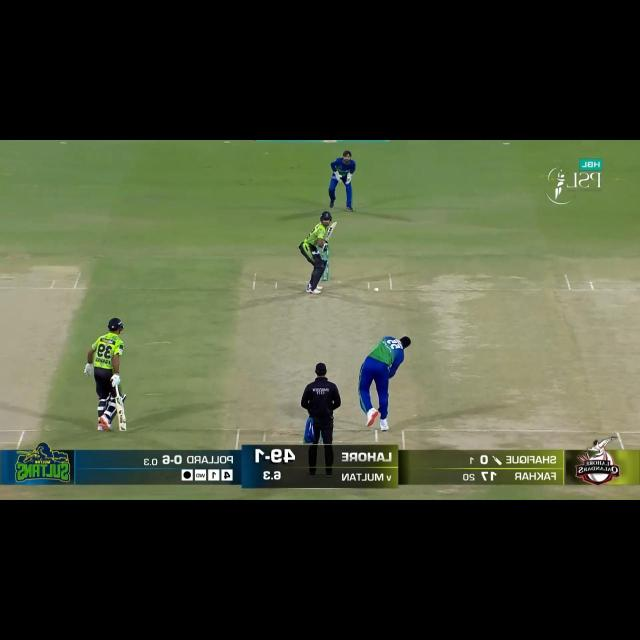bat: (115, 396, 129, 433), (322, 218, 340, 244)
toe: (117, 423, 128, 432), (330, 220, 338, 228)
